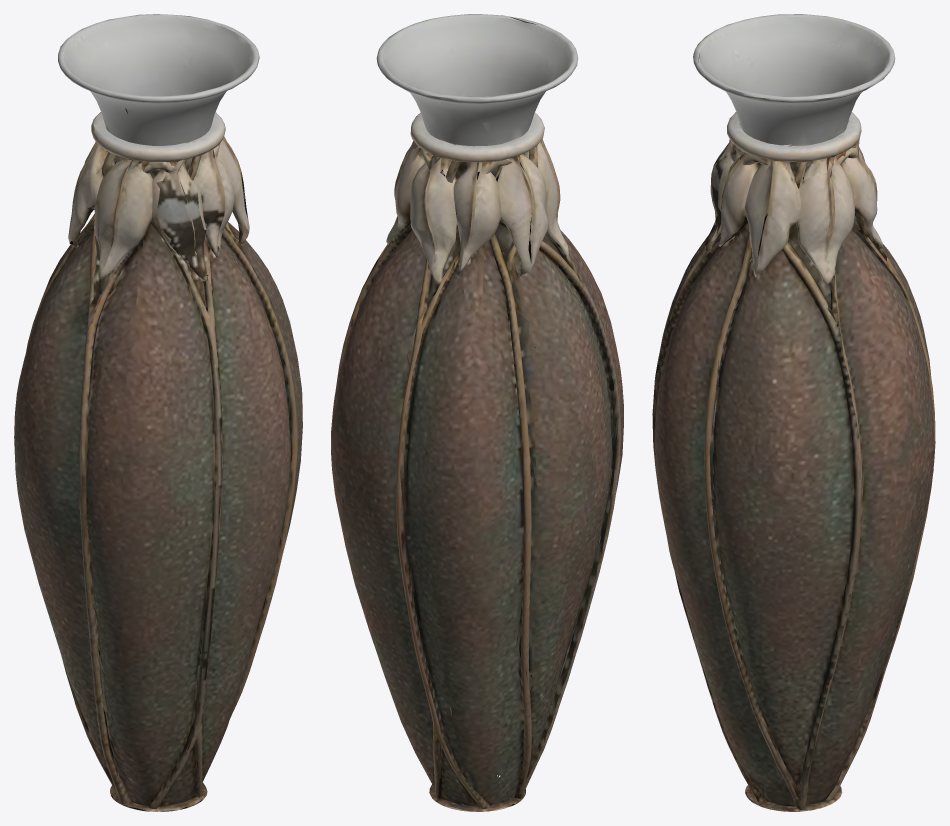
Rendered from ON-10_seed_pod_vase_game.glb.
3 views of the same model, side by side, from view 1: azimuth 30°, elevation 25°; view 2: azimuth 150°, elevation 25°; view 3: azimuth 270°, elevation 25° (orthographic).
Visible parts, largest first — view 1: ON-10_seed_pod_vase; view 2: ON-10_seed_pod_vase; view 3: ON-10_seed_pod_vase.
Part boxes in pixels (x1=…): ON-10_seed_pod_vase: x1=14, y1=14, x2=302, y2=811; ON-10_seed_pod_vase: x1=331, y1=14, x2=623, y2=811; ON-10_seed_pod_vase: x1=652, y1=14, x2=935, y2=811.
Size of the model in its own units: 0.1363 by 0.38 by 0.1324.
1 material, 1 textured.
